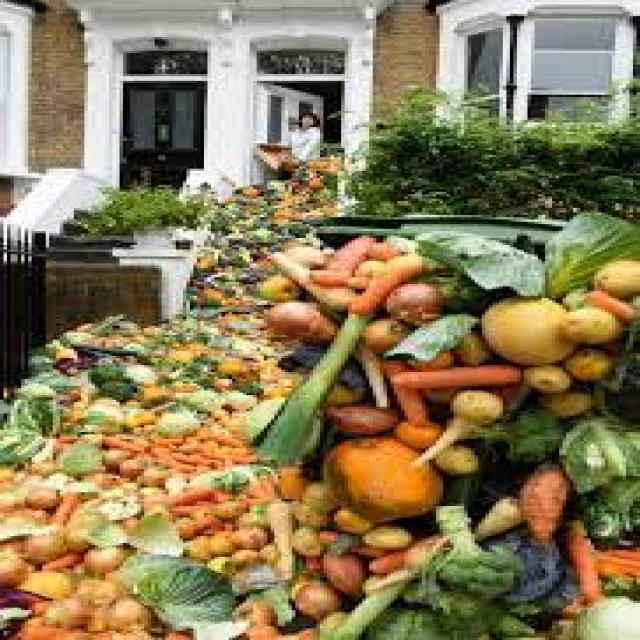Wet: (8, 394, 265, 640), (260, 236, 442, 360), (309, 426, 478, 550), (482, 288, 638, 390), (417, 496, 532, 626), (506, 463, 581, 552), (292, 576, 352, 630), (232, 194, 308, 224)
